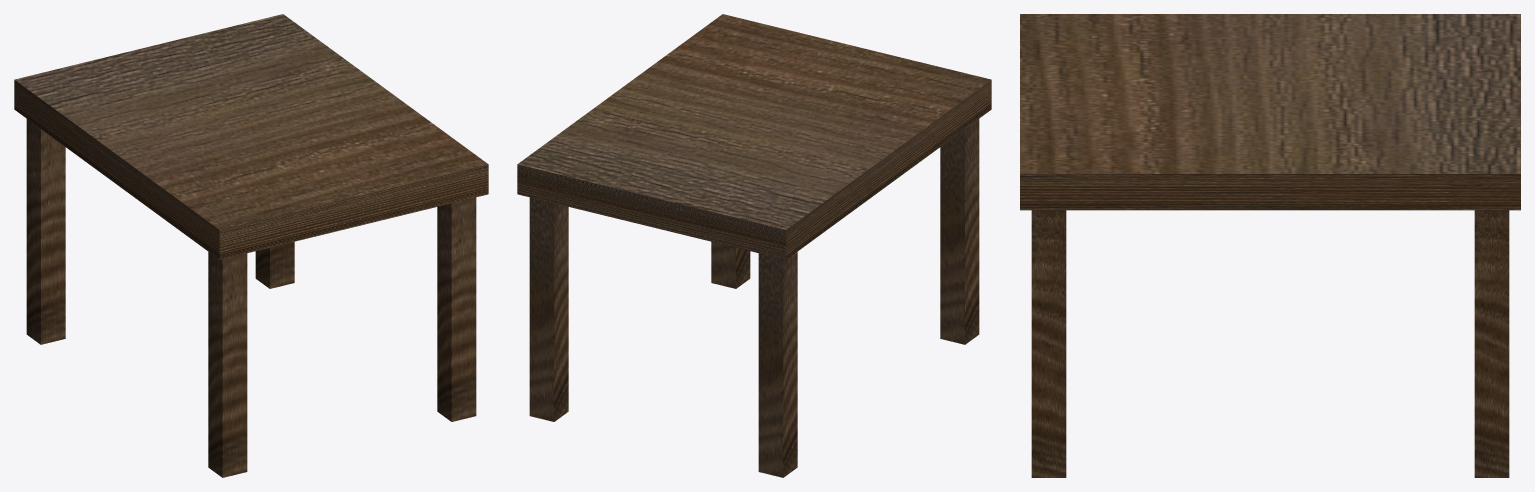
The model's file is desk.fbx.
The picture shows the model from 3 angles, left to right: view 1: azimuth 30°, elevation 25°; view 2: azimuth 150°, elevation 25°; view 3: azimuth 270°, elevation 25°; orthographic projection. The views are drawn at different scales.
Visible parts, largest first — view 1: pCube21; view 2: pCube21; view 3: pCube21.
Boxes of the visible parts, box(x1,y1,x2,y2) form: pCube21: box(14, 14, 488, 477); pCube21: box(517, 14, 991, 477); pCube21: box(1020, 14, 1520, 477).
Bounding box in the file's own units: 9.39 × 8.45 × 12.43.
1 material, 1 textured.
